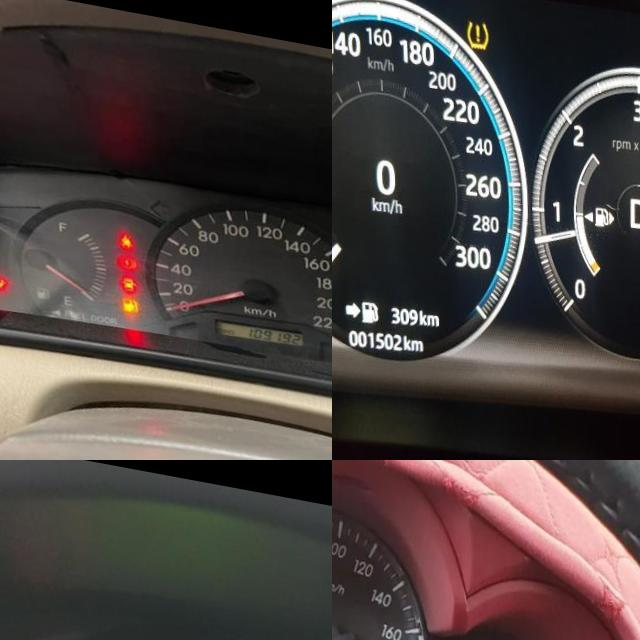Seat Belt: (120, 225, 134, 243)
